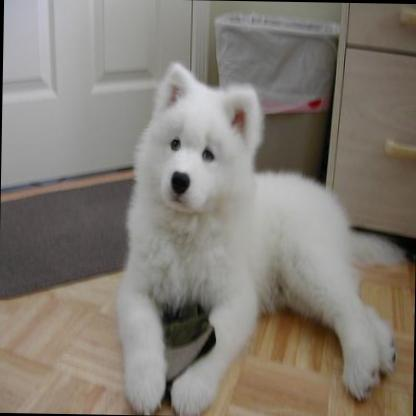Samoyed: (110, 57, 410, 416)
